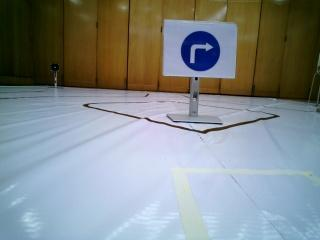right: (161, 19, 238, 78)
